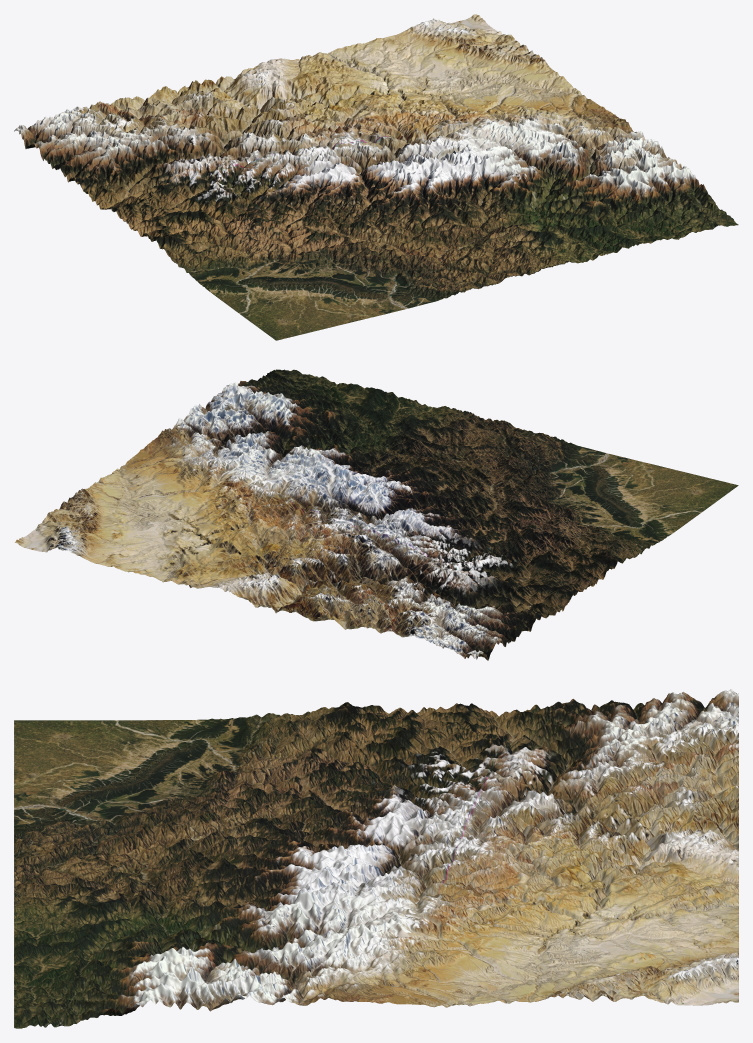
3 renders of one model, top to bottom at view 1: azimuth 30°, elevation 25°; view 2: azimuth 150°, elevation 25°; view 3: azimuth 270°, elevation 25°, orthographic. The views are drawn at different scales.
Parts seen in each view (by area): view 1: TerrainNode; view 2: TerrainNode; view 3: TerrainNode.
Boxes of the visible parts, x1,y1,x2,y2 form: TerrainNode: [14, 14, 738, 340]; TerrainNode: [15, 369, 738, 660]; TerrainNode: [14, 689, 738, 1028].
Size of the model in its own units: 304737 by 21202 by 299144.
Materials: 1 (1 with a texture image).
